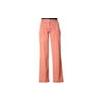pantaloni: (39, 18, 62, 82)
